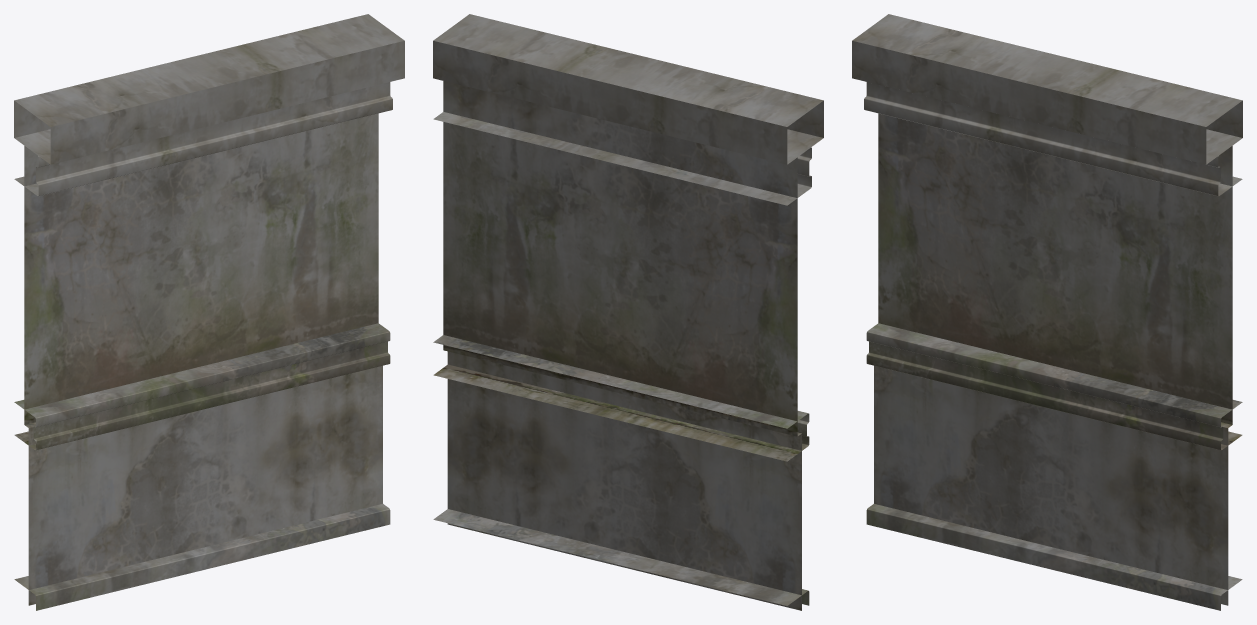
The model's file is Psychiatric_Ward_Guards_Room_Exterior_Wall_2m.glb.
3 views of the same model, side by side, from view 1: azimuth 30°, elevation 25°; view 2: azimuth 150°, elevation 25°; view 3: azimuth 330°, elevation 25° (orthographic).
Parts seen in each view (by area): view 1: Psychiatric_Ward_Guards_Room_Exterior_Wall_2m; view 2: Psychiatric_Ward_Guards_Room_Exterior_Wall_2m; view 3: Psychiatric_Ward_Guards_Room_Exterior_Wall_2m.
Part boxes in pixels (left/top/right/bottom): Psychiatric_Ward_Guards_Room_Exterior_Wall_2m: left=14, top=14, right=404, bottom=610; Psychiatric_Ward_Guards_Room_Exterior_Wall_2m: left=433, top=14, right=823, bottom=610; Psychiatric_Ward_Guards_Room_Exterior_Wall_2m: left=852, top=14, right=1242, bottom=610.
Bounding box in the file's own units: 2 × 2.67 × 0.3569.
2 materials, 2 textured.
